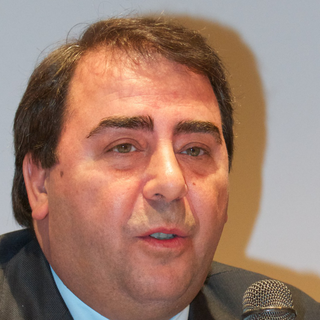eye: (101, 134, 145, 160), (174, 140, 215, 162)
